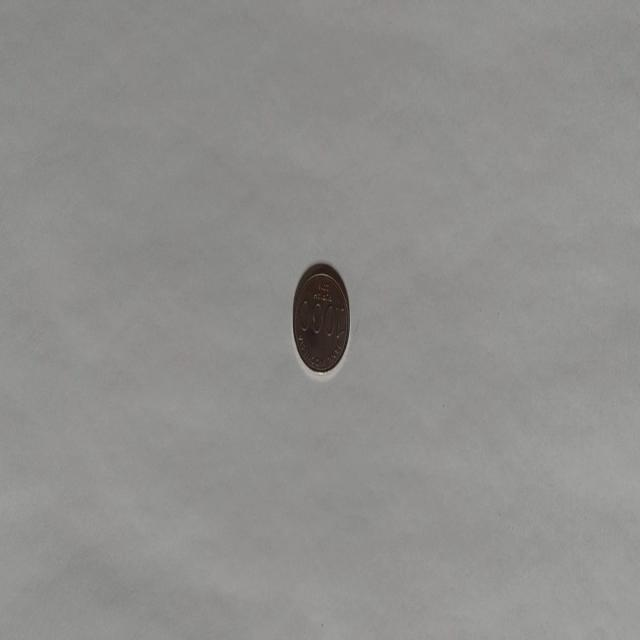seribu rupiah koin: (291, 261, 351, 375)
